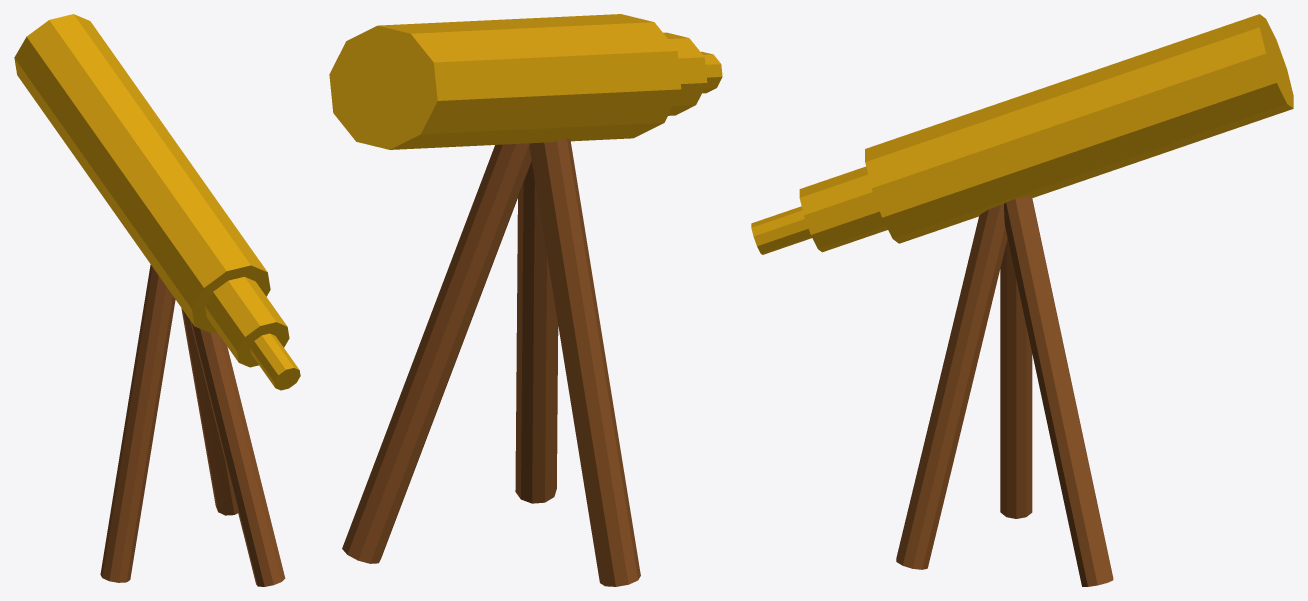
The model's file is telescope.fbx.
The picture shows the model from 3 angles, left to right: view 1: azimuth 30°, elevation 25°; view 2: azimuth 150°, elevation 25°; view 3: azimuth 270°, elevation 25°; orthographic projection. The views are drawn at different scales.
Visible parts, largest first — view 1: telescope1; view 2: telescope1; view 3: telescope1.
Boxes of the visible parts, left/top/right/bottom form: telescope1: left=14, top=14, right=300, bottom=586; telescope1: left=329, top=14, right=722, bottom=586; telescope1: left=751, top=14, right=1293, bottom=586.
Size of the model in its own units: 1.35 by 3.41 by 3.22.
